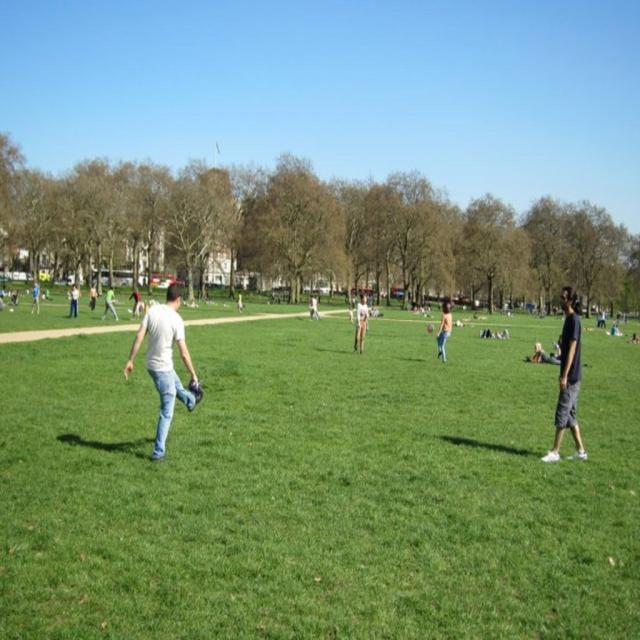ball: (428, 324, 434, 335)
